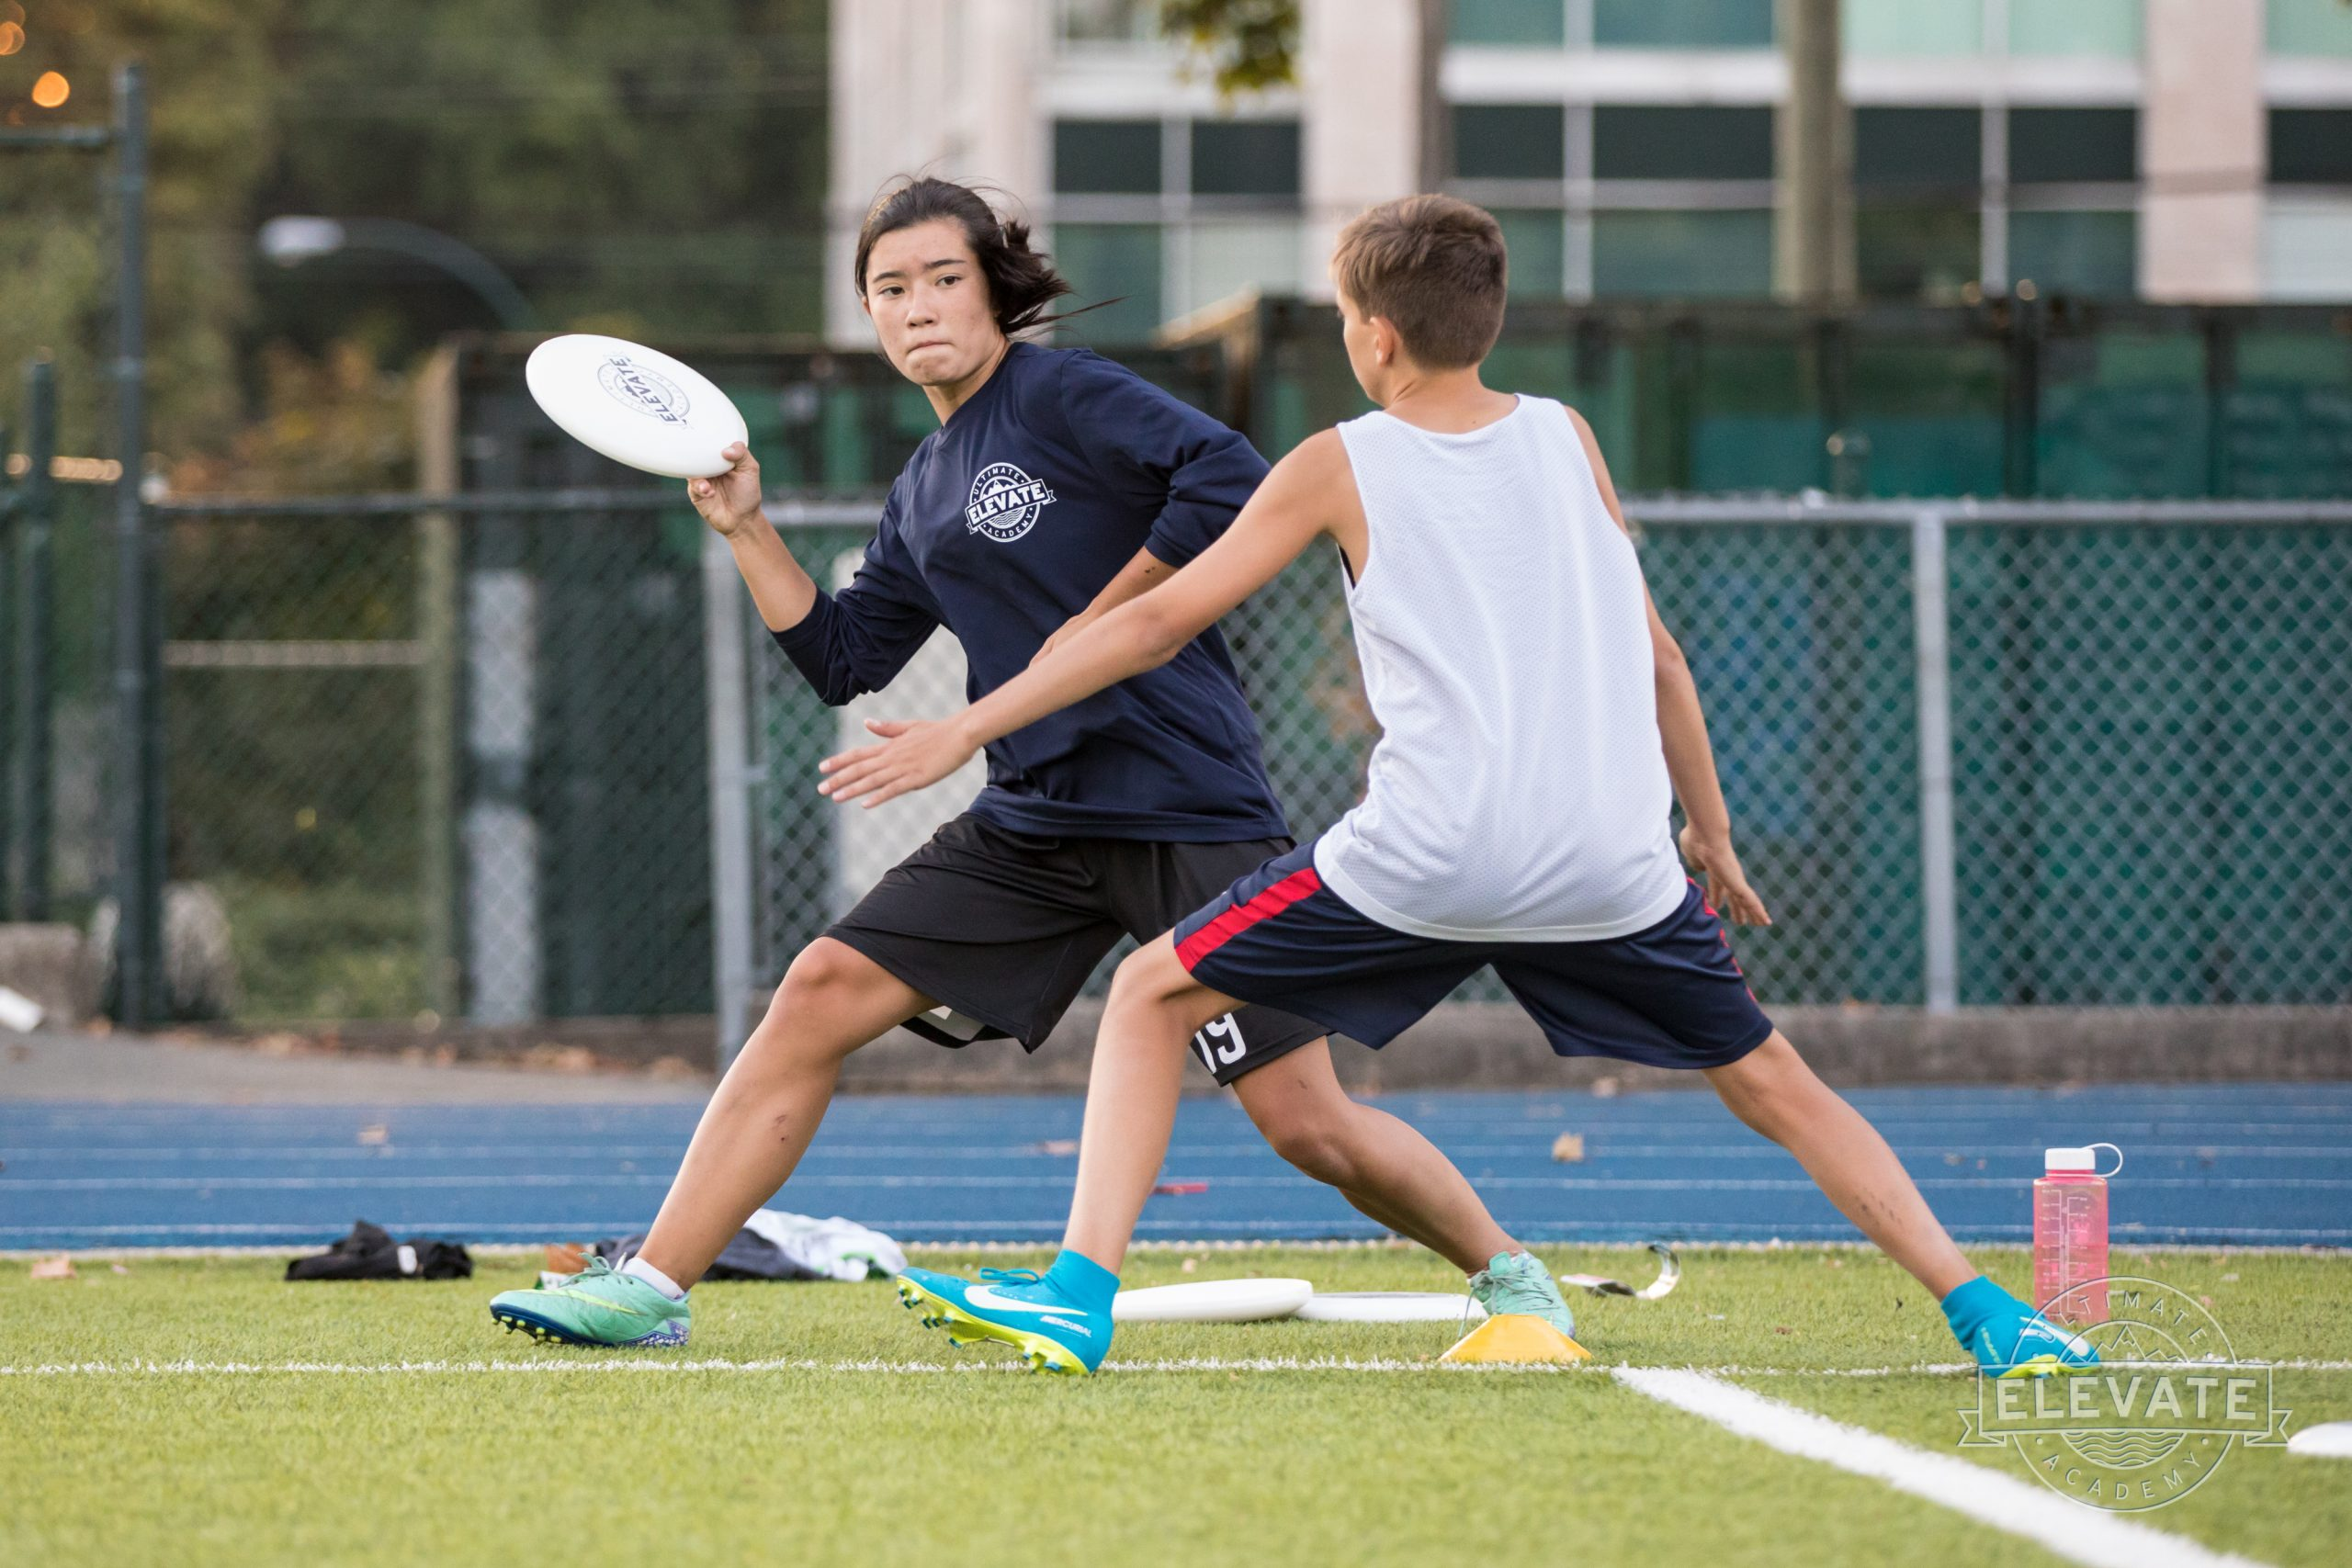disc: (527, 315, 789, 518)
